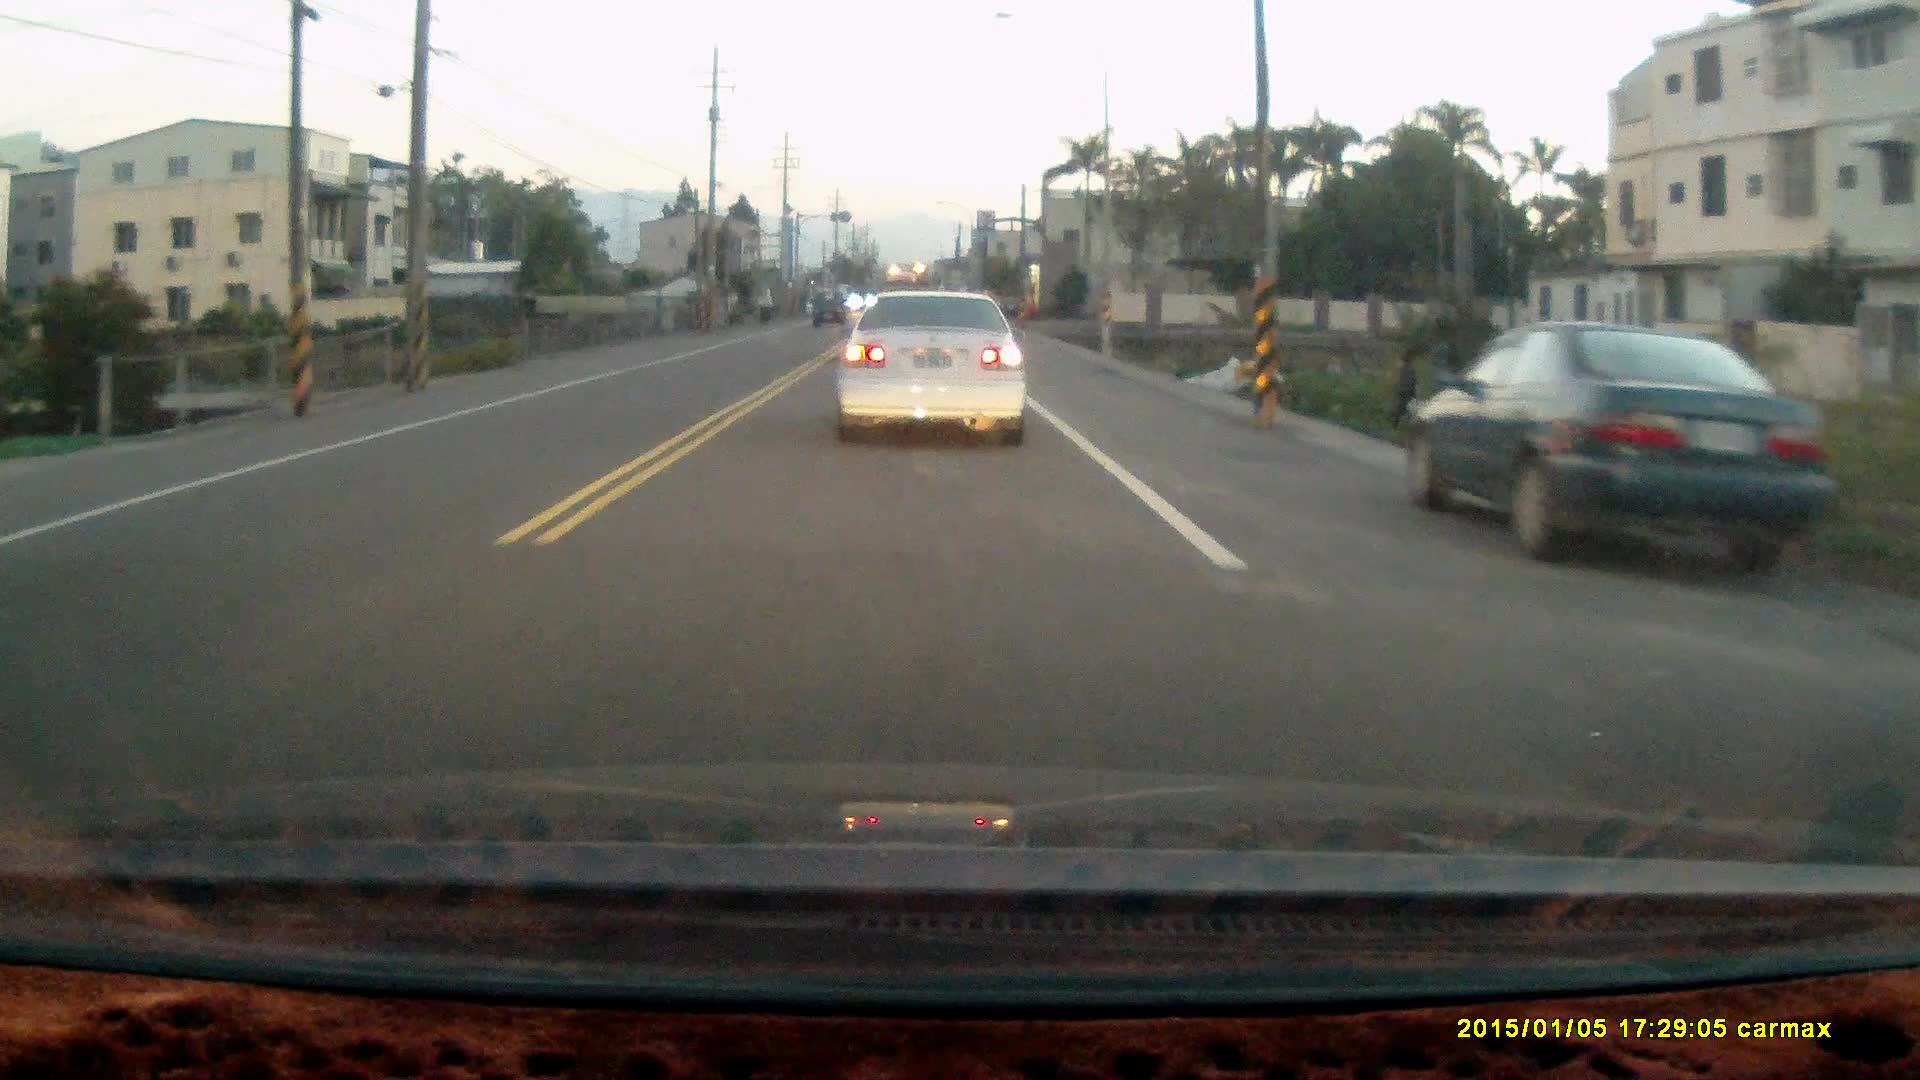pedestrian: (1393, 350, 1424, 426)
vehicle: (1409, 321, 1846, 572), (839, 288, 1032, 437), (811, 292, 849, 333)
